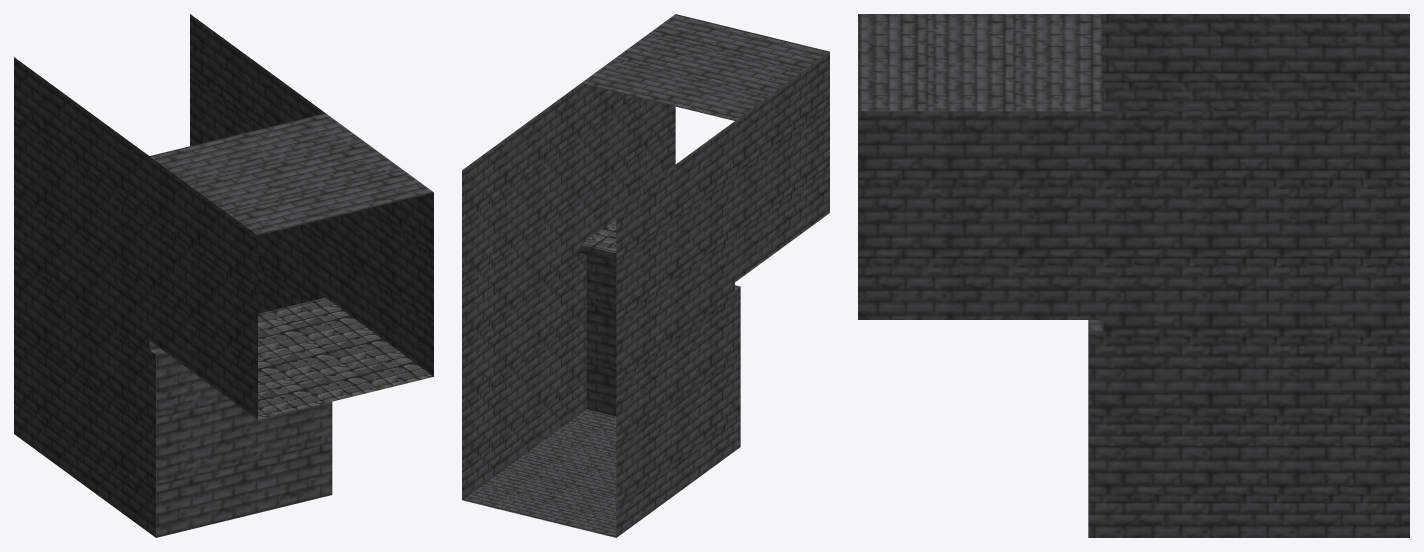
Rendered from Tutorial Level Shell.fbx.
The picture shows the model from 3 angles, left to right: view 1: azimuth 30°, elevation 25°; view 2: azimuth 150°, elevation 25°; view 3: azimuth 270°, elevation 25°; orthographic projection. The views are drawn at different scales.
Visible parts, largest first — view 1: Level.001; view 2: Level.001; view 3: Level.001.
Part boxes in pixels (x1,y1,x2,y2): Level.001: [14, 14, 433, 537]; Level.001: [462, 14, 829, 537]; Level.001: [858, 14, 1409, 537].
Size of the model in its own units: 622 by 1272 by 1492.
Materials: 1 (1 with a texture image).
